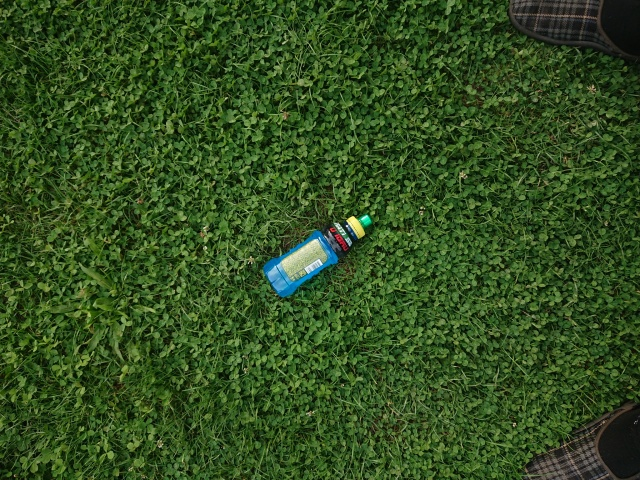Vindi Iso Sport Forest Strawberries 500mL: (261, 211, 373, 299)
